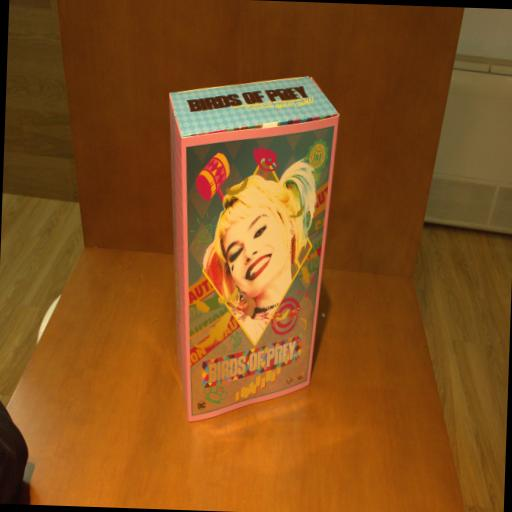Harley: (158, 70, 342, 427)
